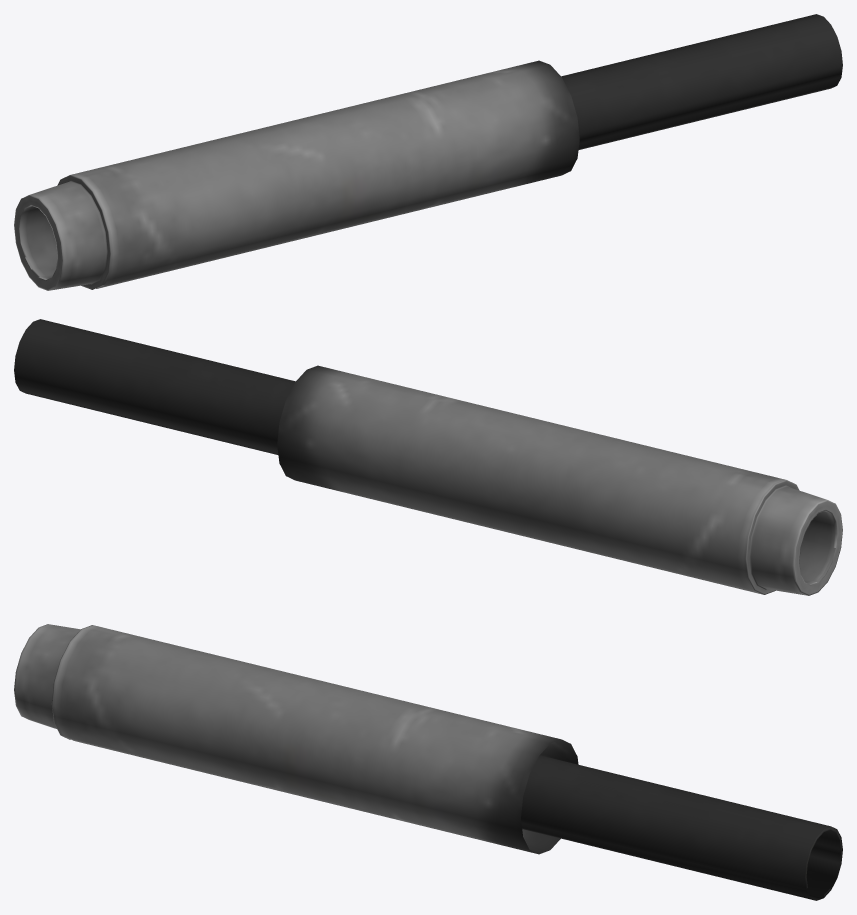
Rendered from Gun2.fbx.
The picture shows the model from 3 angles, top to bottom: view 1: azimuth 30°, elevation 25°; view 2: azimuth 150°, elevation 25°; view 3: azimuth 330°, elevation 25°; orthographic projection.
Visible parts, largest first — view 1: Gun1; view 2: Gun1; view 3: Gun1.
Part boxes in pixels (x1,y1,x2,y2): Gun1: [14, 14, 842, 290]; Gun1: [14, 319, 842, 595]; Gun1: [14, 624, 842, 900].
Bounding box in the file's own units: 107 × 13.85 × 13.85.
